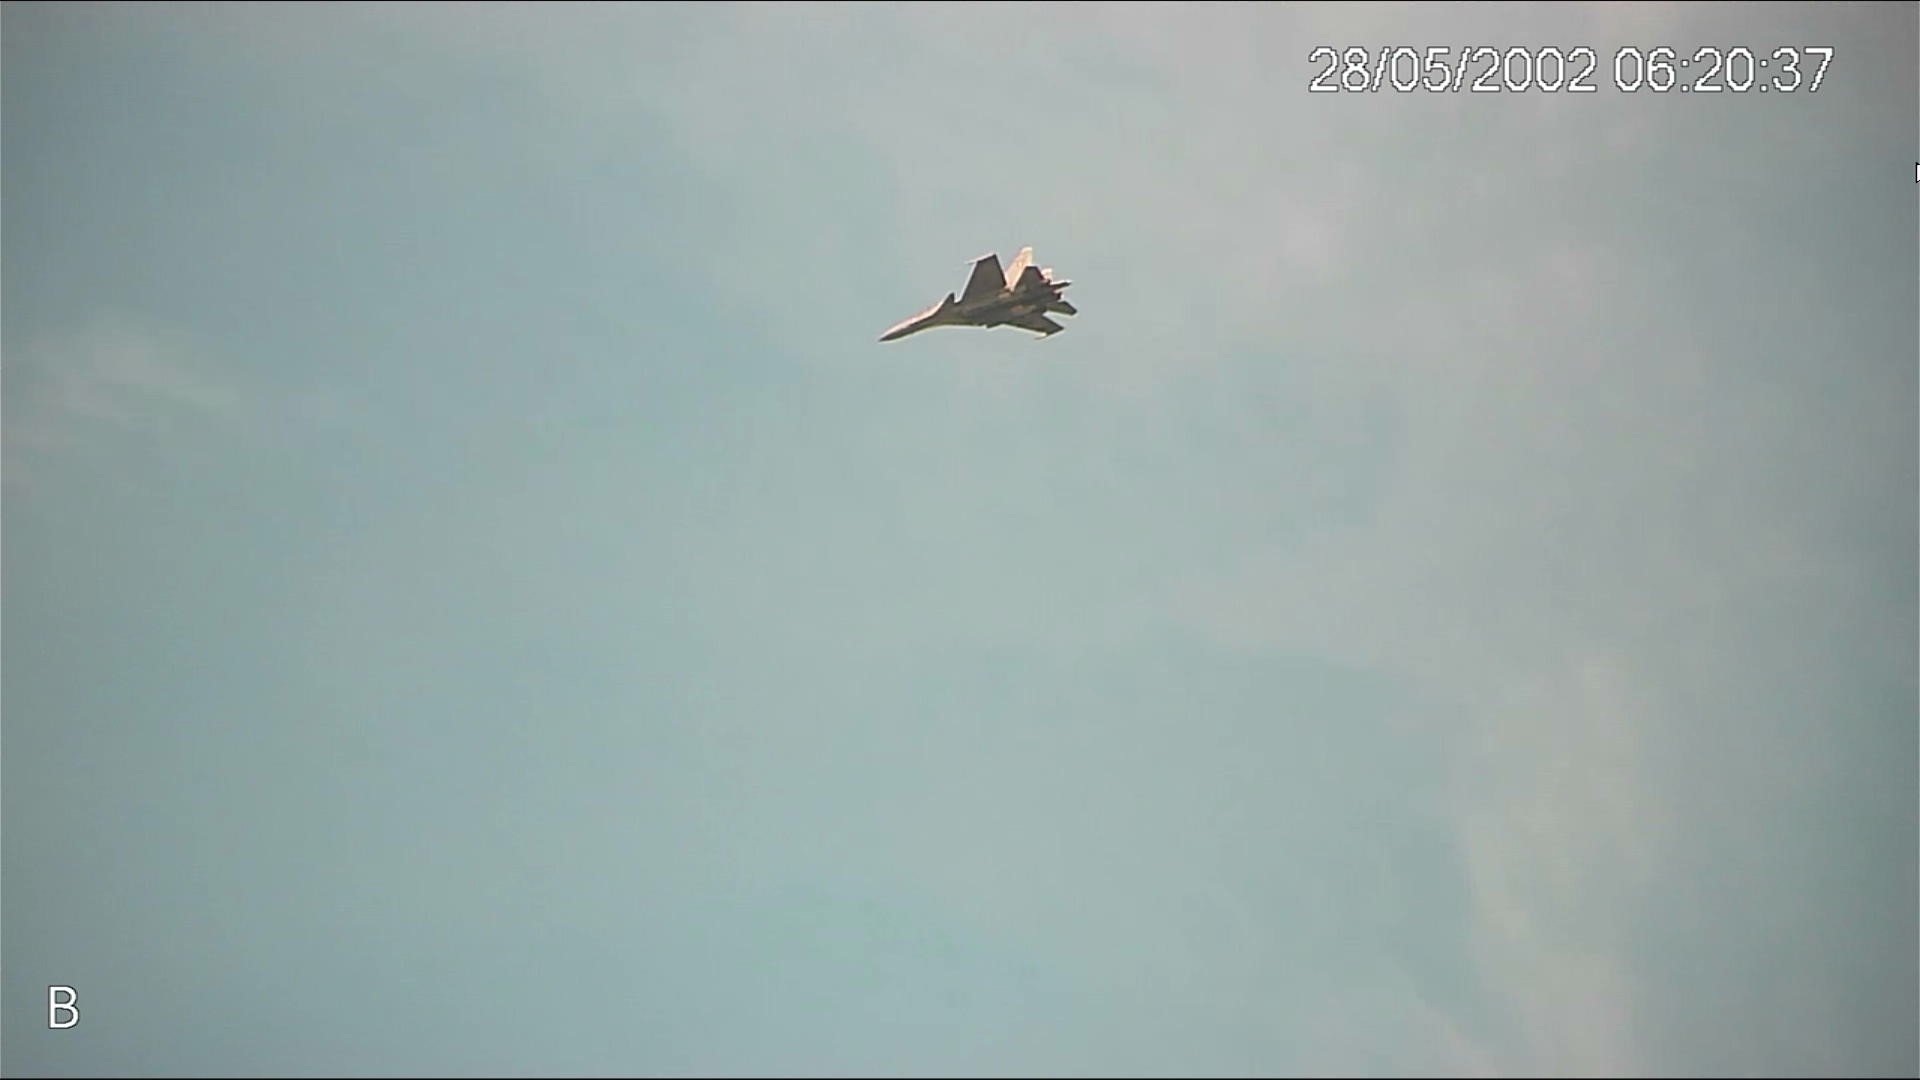SU_30: (877, 245, 1079, 351)
